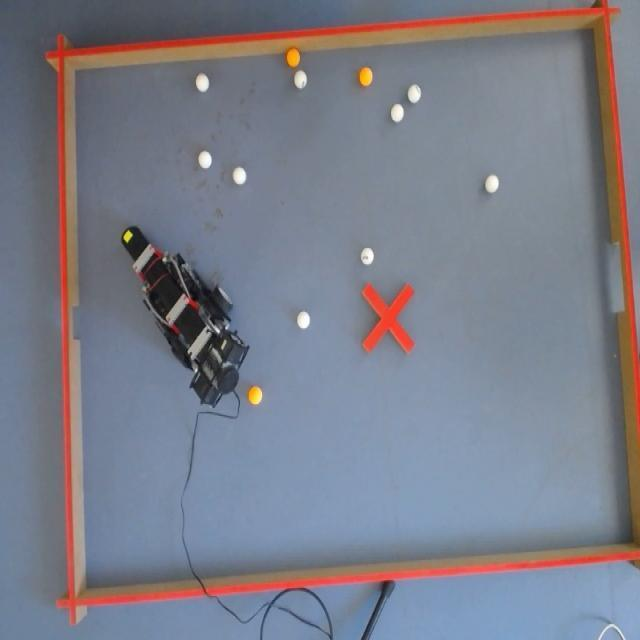orange: (288, 46, 301, 69), (360, 65, 374, 85), (248, 386, 261, 406)
robot: (120, 222, 254, 420)
white: (485, 171, 499, 195), (198, 150, 212, 170), (408, 84, 422, 104), (390, 104, 404, 124), (294, 69, 306, 90), (360, 248, 374, 266), (196, 74, 208, 94), (233, 166, 246, 184), (298, 309, 310, 328)
